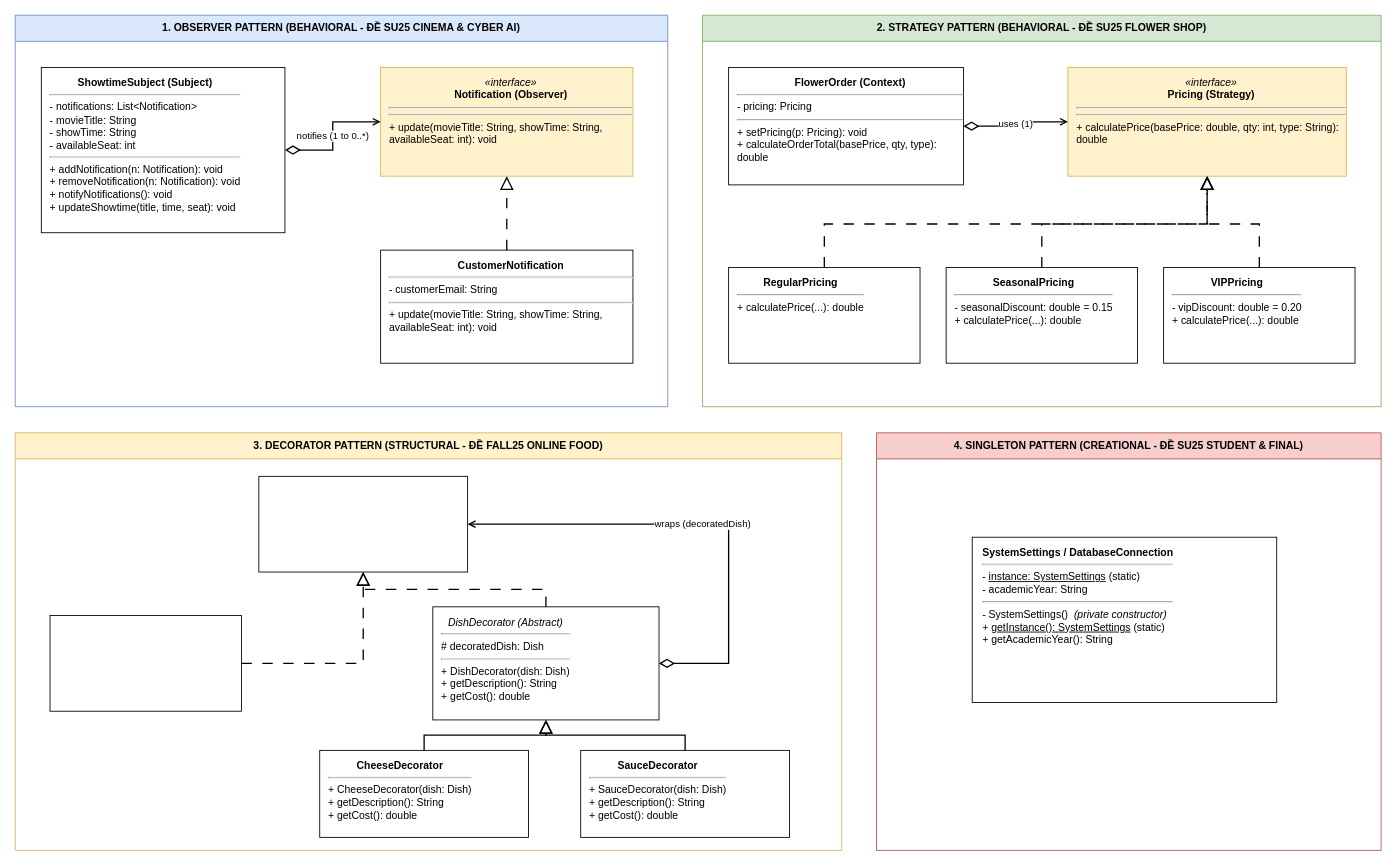
This 1396x866 diagram has some shape labels left out. The centre of each missing label's shape, as x and y in pixels:
"BasicDish + getDescription(): String + getCost(): double" goes at pixel 145 663.
"«interface» Dish (Component) + getDescription(): String + getCost(): double" goes at pixel 363 523.
